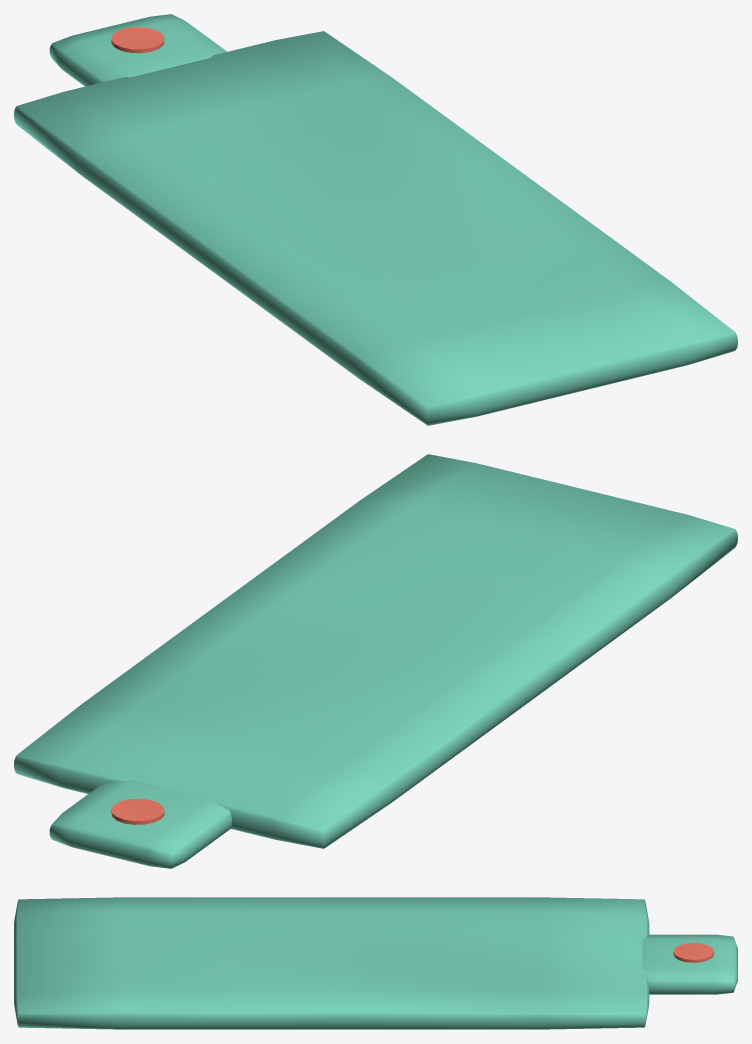
Rendered from 坡道板_薄荷.glb.
3 renders of one model, top to bottom at view 1: azimuth 30°, elevation 25°; view 2: azimuth 150°, elevation 25°; view 3: azimuth 270°, elevation 25°, orthographic. The views are drawn at different scales.
Parts seen in each view (by area): view 1: RampBoard_薄荷; view 2: RampBoard_薄荷; view 3: RampBoard_薄荷.
Boxes of the visible parts, x1,y1,x2,y2 form: RampBoard_薄荷: (14,14,737,425); RampBoard_薄荷: (14,454,737,868); RampBoard_薄荷: (14,897,737,1029).
Size of what is drawn, in the model's own units: 0.22 by 0.021 by 0.5698.
Materials: 2 (2 with a texture image).
